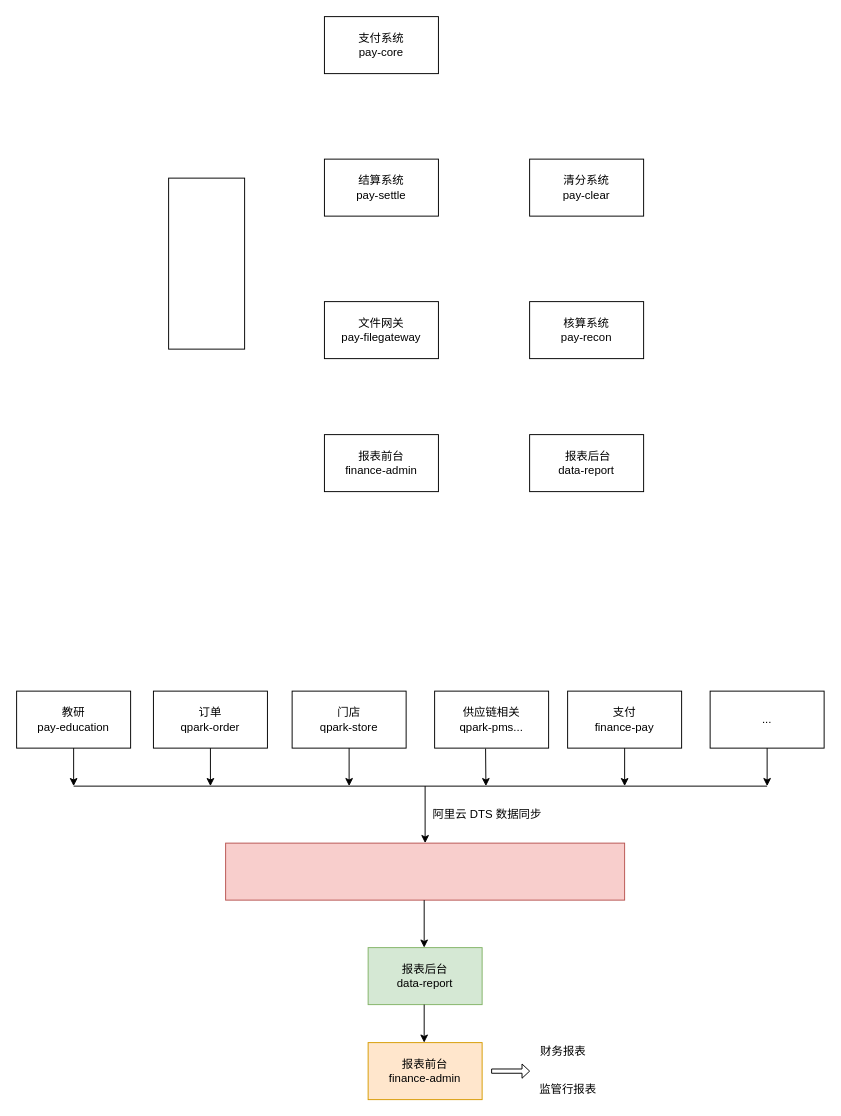
The diagram is 841 pixels wide and 1116 high, and some of its shapes have lost their labels. The shapes that lost their labels are listed below. From the top down, each one's centre as x and y in pixels, then its label:
At (x=206, y=263): "后台管理 pay-admin".
At (x=425, y=871): "数据中心 data-report".
